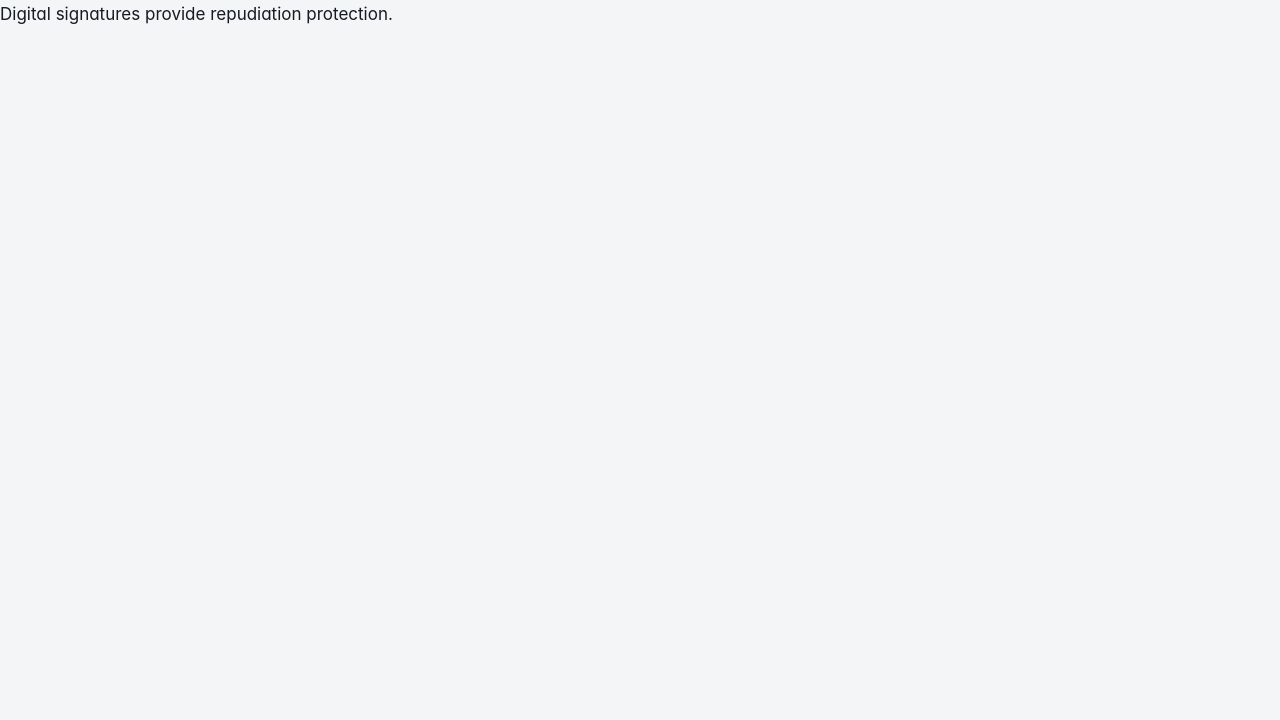
Scenario: glossary popover › shows only IPA and audio with a hint when the AI is off (source none)
What coordinates should you click on to do the following:
click the button "repudiation"
I would click on:
 (256, 14)
Its box is [210,4,302,24].
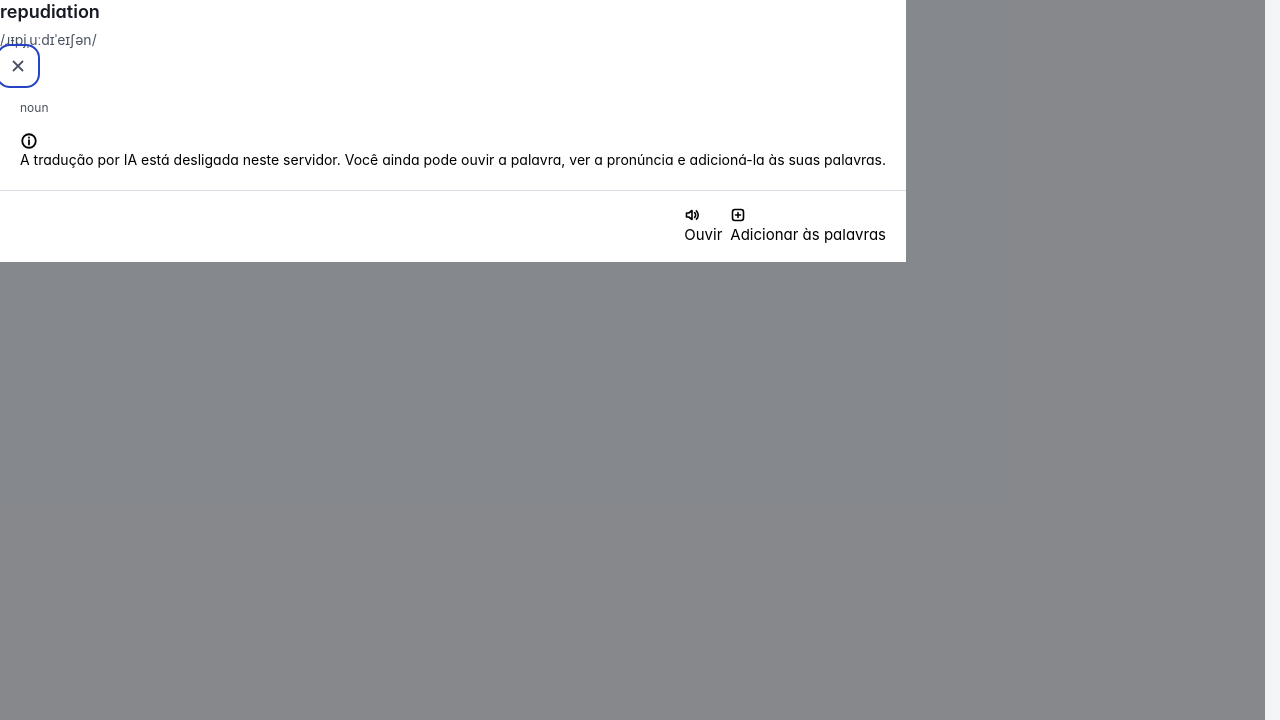
Now the text "A tradução por IA está desligada neste servidor. Você ainda pode ouvir a palavra, ver a pronúncia e adicioná-la às suas " is shown, box [20,150,886,168]
Now the dialog shows "/ɹᵻpjˌuːdɪˈeɪʃən/", box [0,0,906,262]
